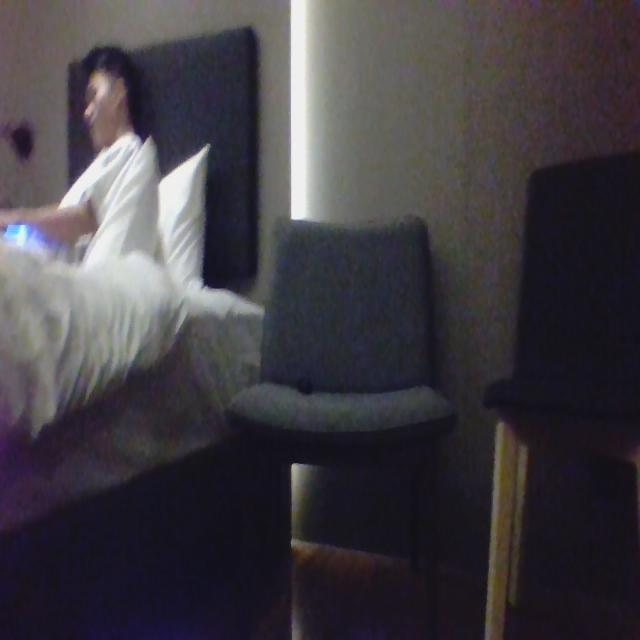empty: (244, 212, 446, 409), (514, 180, 640, 393)
